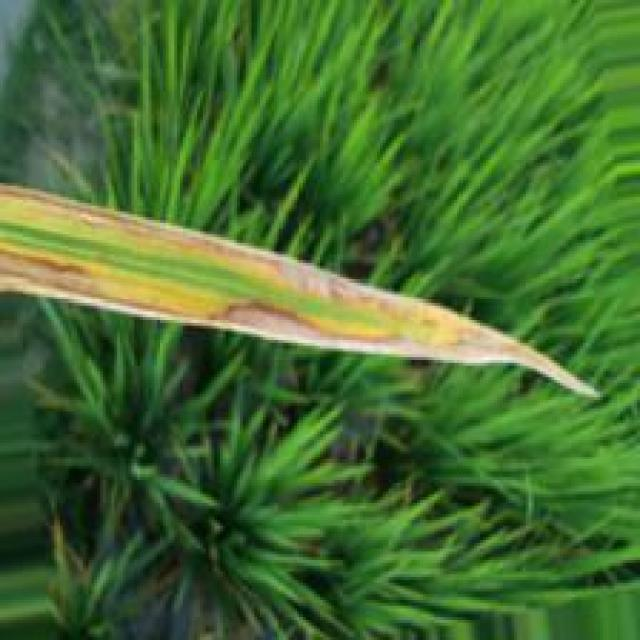Bacterial_Leaf_Blight: (0, 176, 618, 400), (0, 244, 135, 313)
